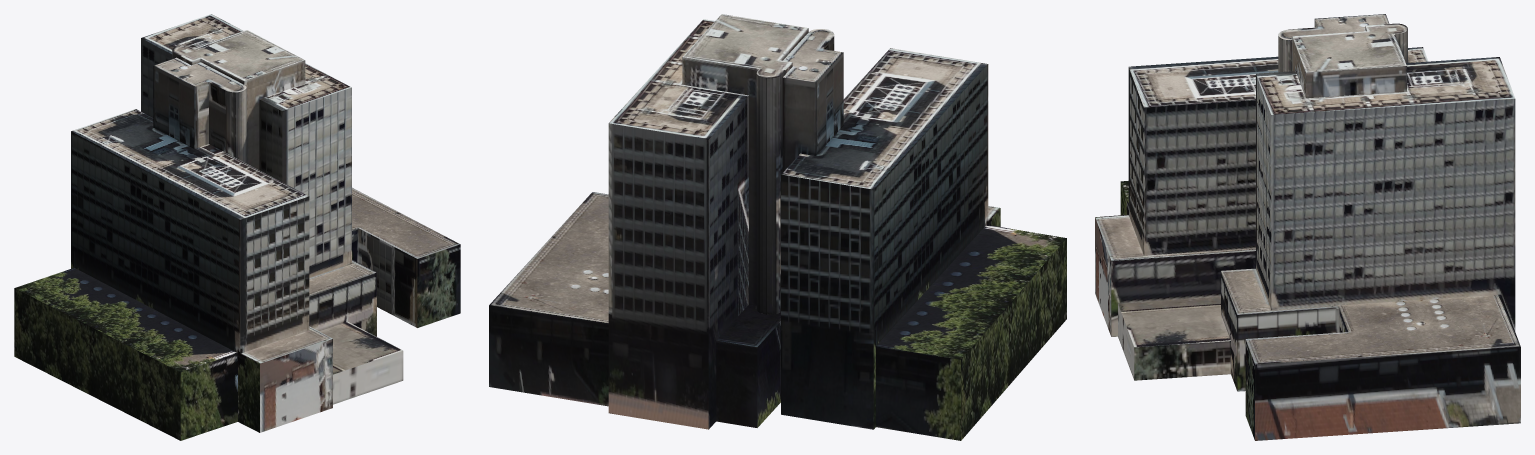
The picture shows the model from 3 angles, left to right: view 1: azimuth 30°, elevation 25°; view 2: azimuth 150°, elevation 25°; view 3: azimuth 270°, elevation 25°; orthographic projection. The views are drawn at different scales.
Visible parts, largest first — view 1: Z_UP; view 2: Z_UP; view 3: Z_UP.
Part boxes in pixels (x1,y1,x2,y2): Z_UP: [14, 14, 460, 440]; Z_UP: [489, 14, 1066, 440]; Z_UP: [1095, 14, 1520, 440].
Size of the model in its own units: 62.78 by 42.53 by 55.23.
Materials: 2 (1 with a texture image).
